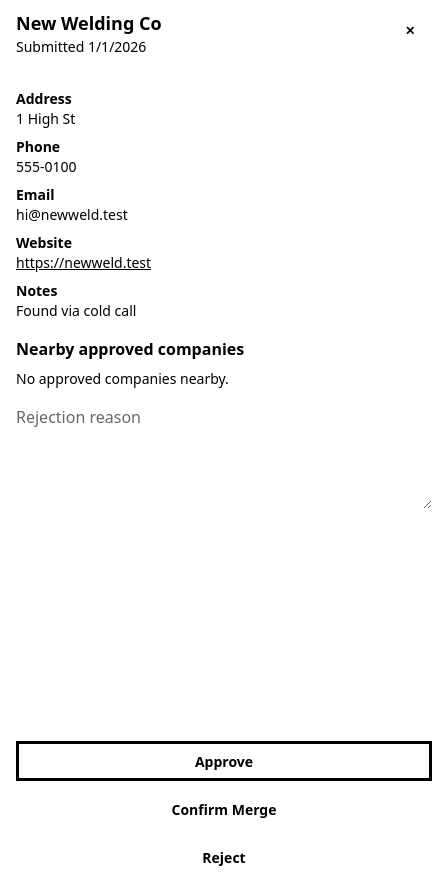
Test case: ModerationDetailPanel › actions › reject requires notes — button disabled when textarea empty
expect the button "Reject" is disabled: met, box [16,837,432,877]
Type "duplicate" into the text box labelled "Rejection reason" at (224, 469), box [16,429,432,509]
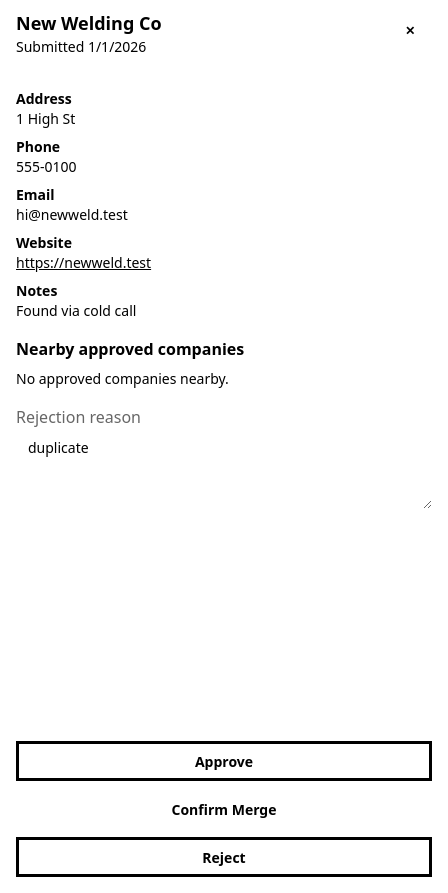
expect the button "Reject" is enabled: met, box [16,837,432,877]
